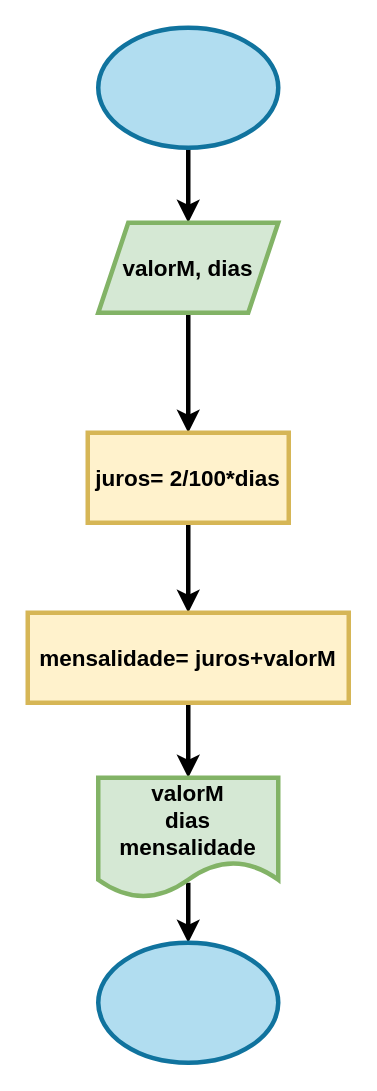
The diagram is 377 pixels wide and 1091 high, and some of its shapes have lost their labels. Each missing label, with the centre of its shape:
"Fim" goes at [187,1002].
"Inicio" goes at [187,87].
